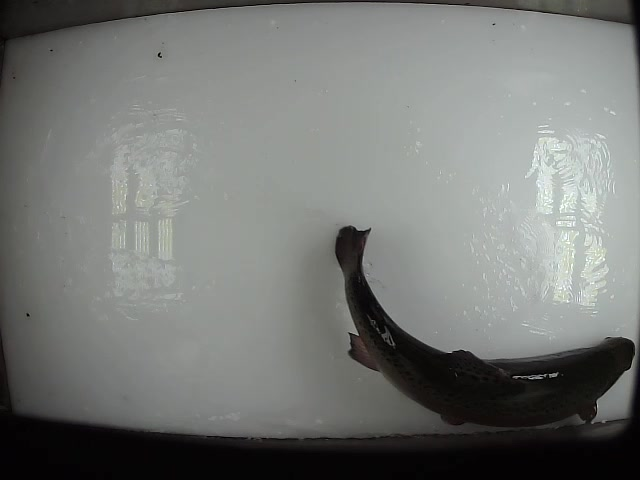fish: (335, 225, 635, 430)
